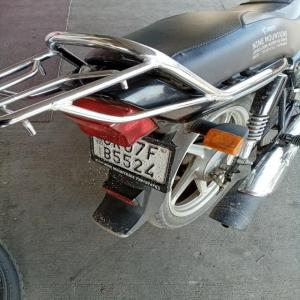Plate: (88, 136, 172, 188)
